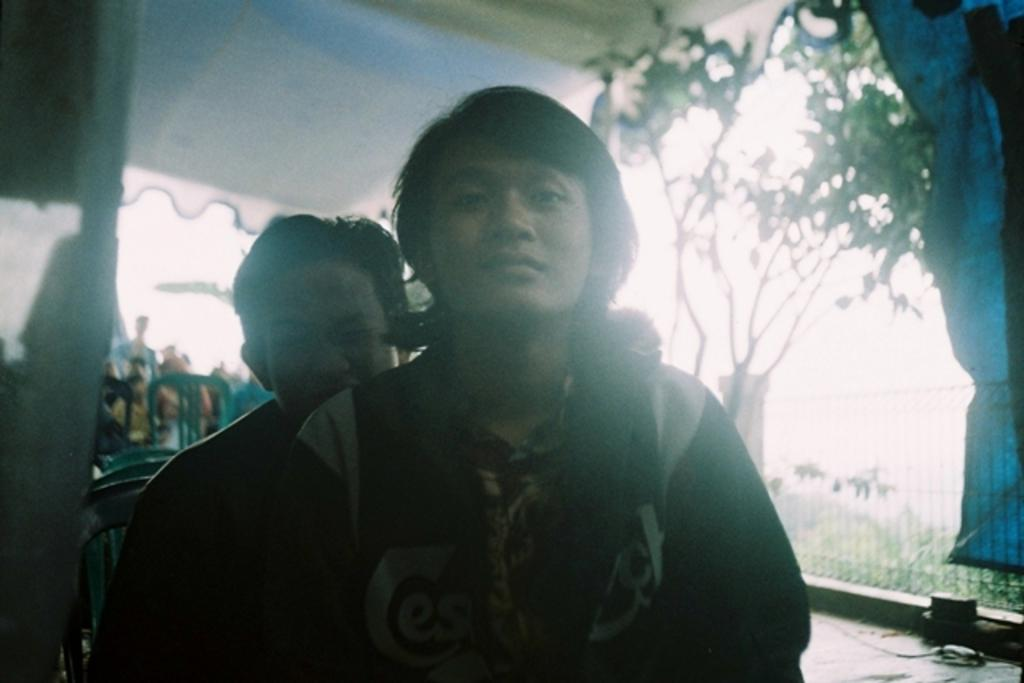Sem Máscara: (427, 140, 590, 318), (265, 260, 396, 425)
